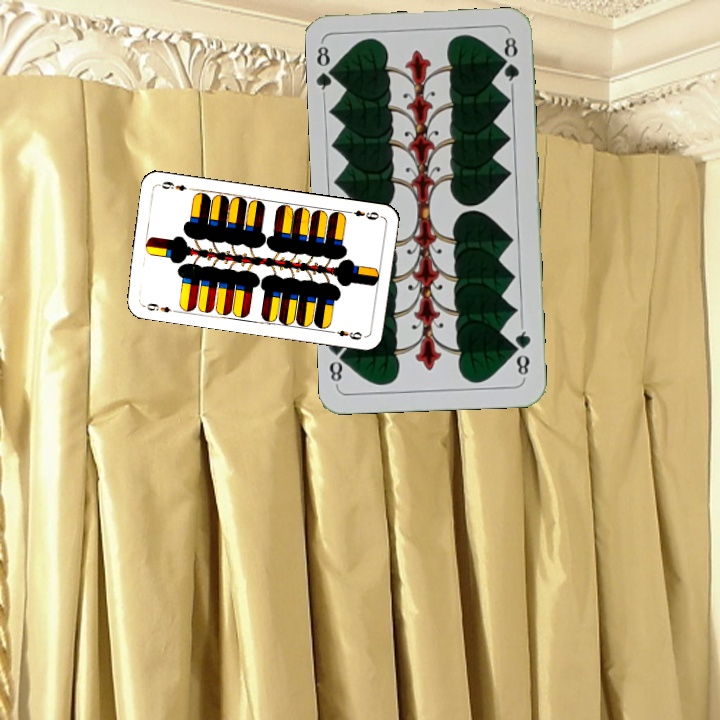E9: (139, 299, 179, 315), (343, 206, 381, 222)
G8: (312, 39, 340, 98), (510, 322, 534, 381)
